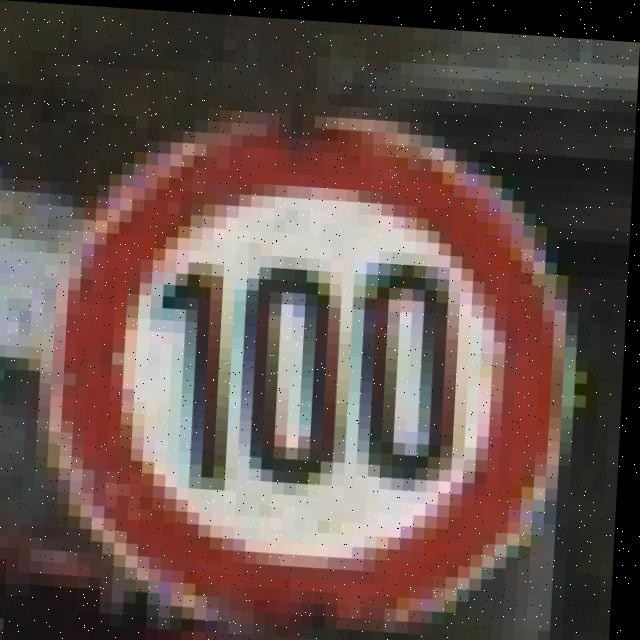speed_limit_100: (60, 113, 583, 640)
